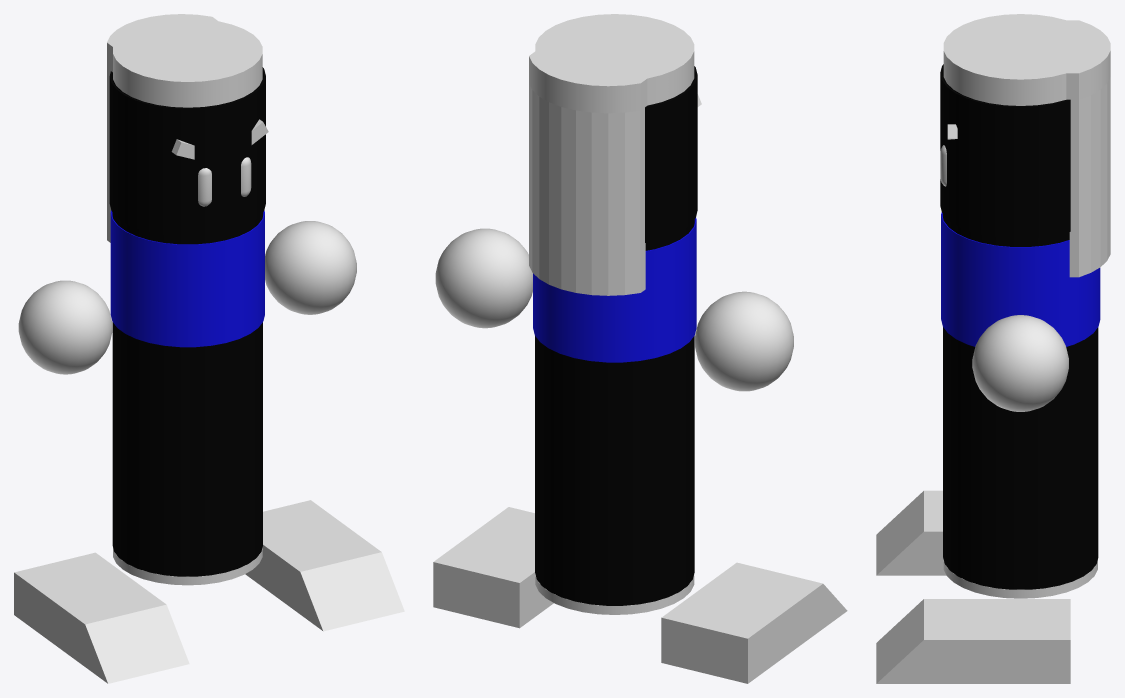
The model's file is 原子筆人（藍）.fbx.
3 renders of one model, left to right at view 1: azimuth 30°, elevation 25°; view 2: azimuth 150°, elevation 25°; view 3: azimuth 270°, elevation 25°, orthographic. The views are drawn at different scales.
Parts seen in each view (by area): view 1: 身體, 筆蓋, 防滑, 右腳, 左腳, Cylinder006, 右手, 左手, Cylinder002; view 2: 身體, Cylinder006, 右腳, 防滑, 左腳, 右手, 左手, 筆蓋, Cylinder002; view 3: 身體, Cylinder006, 筆蓋, 左腳, 防滑, 左手, 右腳, Cylinder002.
Part boxes in pixels (bbox=[...]): 身體: bbox=[112, 213, 262, 576]; 筆蓋: bbox=[109, 67, 265, 236]; 防滑: bbox=[110, 210, 264, 347]; 右腳: bbox=[14, 552, 189, 683]; 左腳: bbox=[245, 500, 404, 631]; Cylinder006: bbox=[107, 14, 262, 242]; 右手: bbox=[18, 280, 112, 374]; 左手: bbox=[265, 221, 356, 314]; Cylinder002: bbox=[113, 548, 262, 585]; 身體: bbox=[535, 220, 694, 605]; Cylinder006: bbox=[529, 14, 694, 295]; 右腳: bbox=[661, 562, 847, 683]; 防滑: bbox=[533, 218, 696, 362]; 左腳: bbox=[433, 507, 553, 628]; 右手: bbox=[695, 291, 793, 391]; 左手: bbox=[435, 228, 532, 328]; 筆蓋: bbox=[645, 66, 697, 242]; Cylinder002: bbox=[535, 574, 694, 614]; 身體: bbox=[943, 214, 1098, 589]; Cylinder006: bbox=[943, 14, 1110, 277]; 筆蓋: bbox=[940, 64, 1070, 238]; 左腳: bbox=[876, 599, 1070, 683]; 防滑: bbox=[941, 212, 1100, 346]; 左手: bbox=[972, 315, 1068, 411]; 右腳: bbox=[876, 490, 946, 575]; Cylinder002: bbox=[943, 560, 1097, 598].
Size of the model in its own units: 39.89 by 64 by 24.13.
